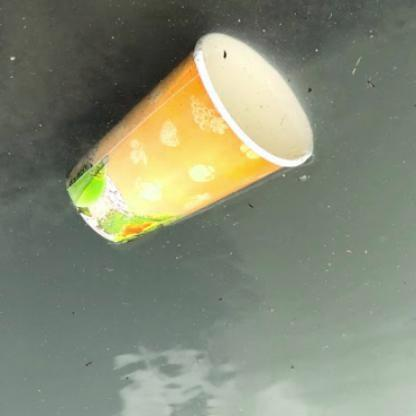Plastic: (64, 27, 316, 249)
